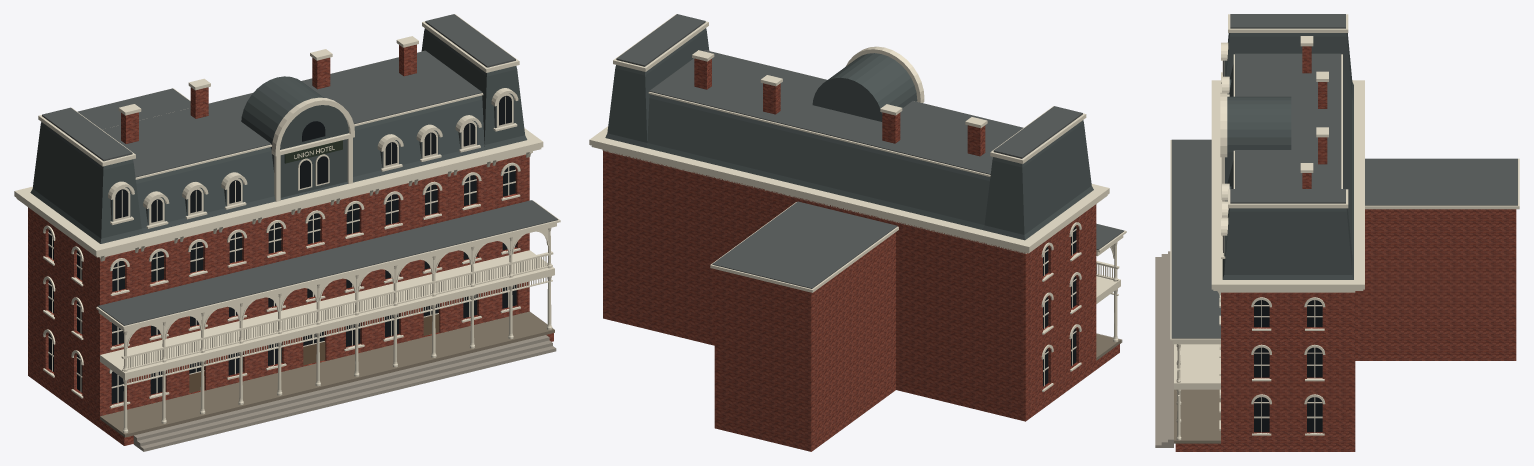
The model's file is union_hotel.glb.
3 renders of one model, left to right at view 1: azimuth 30°, elevation 25°; view 2: azimuth 150°, elevation 25°; view 3: azimuth 270°, elevation 25°, orthographic. The views are drawn at different scales.
Visible parts, largest first — view 1: UH_Trim, UH_Walls, UH_Roof, UH_Slate, UH_Boards, UH_Glass, UH_Stone, UH_Brick, UH_Wood, UH_Sign; view 2: UH_Walls, UH_Slate, UH_Brick, UH_Roof, UH_Trim, UH_Glass; view 3: UH_Roof, UH_Brick, UH_Walls, UH_Slate, UH_Trim, UH_Stone, UH_Glass, UH_Boards.
Part boxes in pixels (<box>): UH_Trim: <box>14,14,560,433</box>; UH_Walls: <box>28,154,529,427</box>; UH_Roof: <box>42,14,558,325</box>; UH_Slate: <box>30,28,527,243</box>; UH_Boards: <box>100,311,554,437</box>; UH_Glass: <box>48,95,516,403</box>; UH_Stone: <box>133,335,556,451</box>; UH_Brick: <box>100,44,553,445</box>; UH_Wood: <box>189,314,439,393</box>; UH_Sign: <box>284,140,342,163</box>; UH_Walls: <box>603,150,1096,421</box>; UH_Slate: <box>605,28,1093,240</box>; UH_Brick: <box>694,58,1119,451</box>; UH_Roof: <box>616,14,1124,288</box>; UH_Trim: <box>589,14,1126,391</box>; UH_Glass: <box>1043,226,1076,386</box>; UH_Roof: <box>1171,14,1517,338</box>; UH_Brick: <box>1175,46,1516,451</box>; UH_Walls: <box>1221,292,1355,451</box>; UH_Slate: <box>1222,33,1353,279</box>; UH_Trim: <box>1170,14,1519,440</box>; UH_Stone: <box>1155,251,1173,447</box>; UH_Glass: <box>1223,60,1322,432</box>; UH_Boards: <box>1174,389,1220,443</box>.
Bounding box in the file's own units: 30.9 × 18.15 × 23.3.
9 materials, 1 textured.
